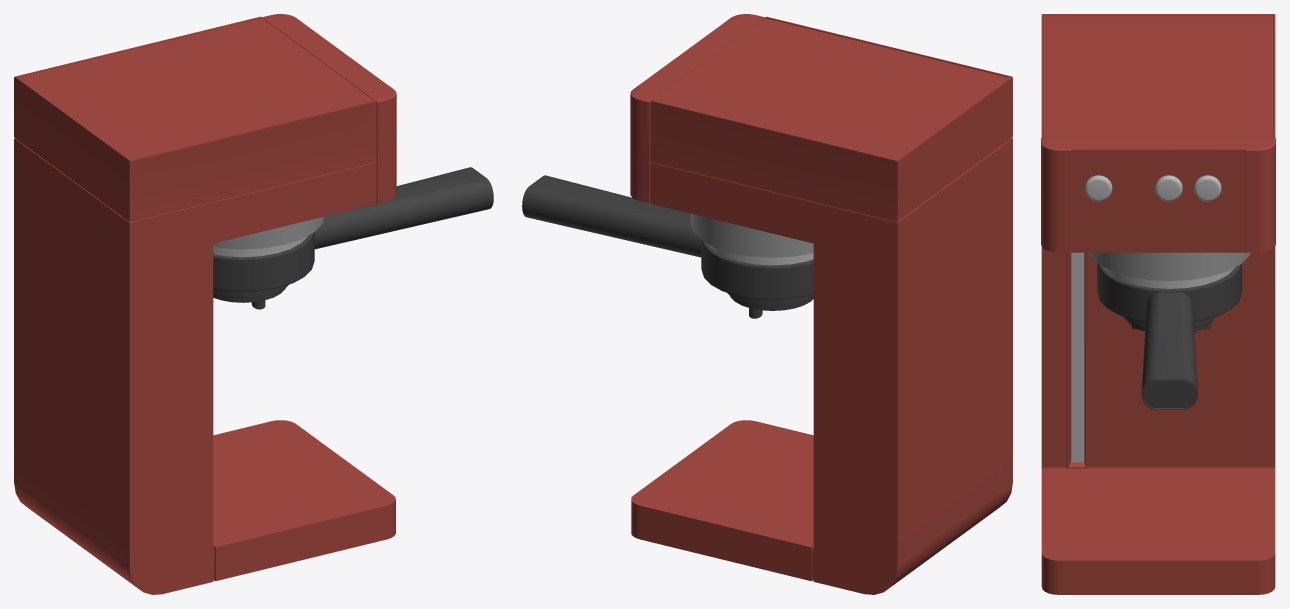
File: CoffeeMachine.fbx
3 renders of one model, left to right at view 1: azimuth 30°, elevation 25°; view 2: azimuth 150°, elevation 25°; view 3: azimuth 270°, elevation 25°, orthographic.
Parts seen in each view (by area): view 1: CoffeeMachine, polySurface26, pCylinder1, Chasha1; view 2: CoffeeMachine, polySurface26, pCylinder1, Chasha1; view 3: CoffeeMachine, polySurface26, pCylinder1, Chasha1, pCylinder5, pCylinder3, pCylinder4.
Boxes of the visible parts, box(x1,y1,x2,y2) form: CoffeeMachine: box(14, 14, 396, 594); polySurface26: box(213, 167, 493, 309); pCylinder1: box(213, 216, 324, 249); Chasha1: box(213, 236, 307, 257); CoffeeMachine: box(630, 14, 1012, 594); polySurface26: box(522, 175, 813, 318); pCylinder1: box(690, 213, 813, 257); Chasha1: box(708, 244, 813, 265); CoffeeMachine: box(1041, 14, 1275, 594); polySurface26: box(1097, 263, 1241, 409); pCylinder1: box(1089, 252, 1250, 281); Chasha1: box(1104, 267, 1235, 288); pCylinder5: box(1084, 175, 1112, 201); pCylinder3: box(1193, 175, 1221, 201); pCylinder4: box(1155, 175, 1182, 201).
Size of the model in its own units: 6.75 by 6.88 by 3.28.
